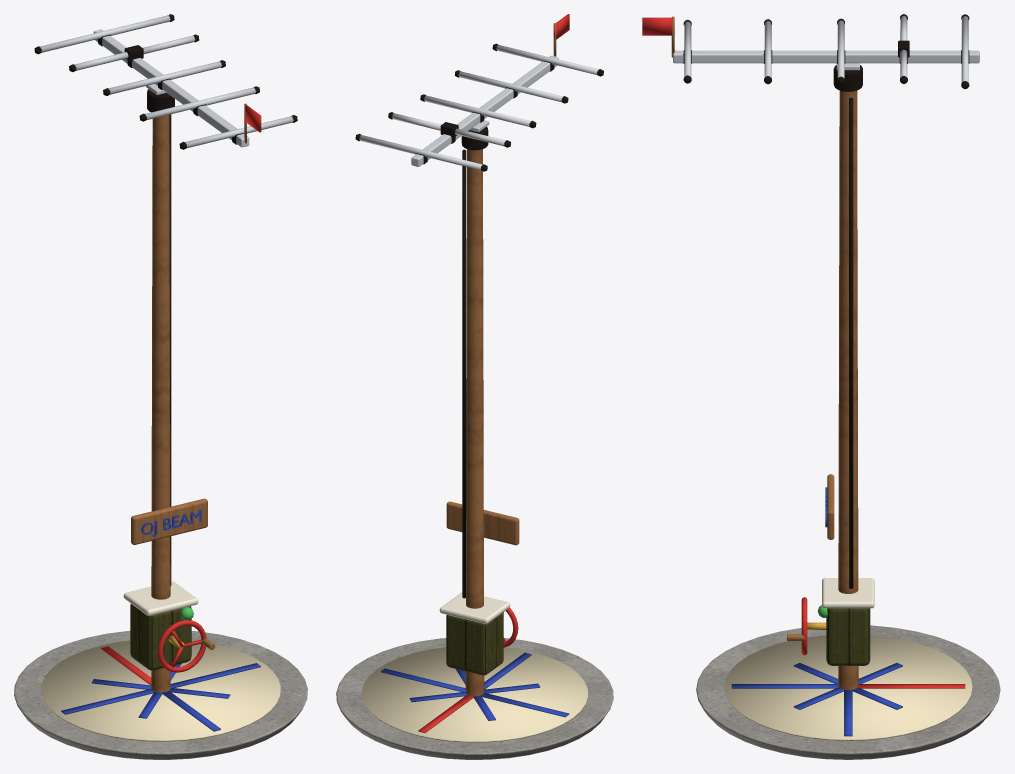
File: beam.glb
The picture shows the model from 3 angles, left to right: view 1: azimuth 30°, elevation 25°; view 2: azimuth 150°, elevation 25°; view 3: azimuth 270°, elevation 25°; orthographic projection. The views are drawn at different scales.
Visible parts, largest first — view 1: bm_rose, bm_pad, bm_pole, bm_gearbox, bm_sign, bm_boom, bm_gearlid, bm_coax, bm_el, bm_wheel, bm_el.003, bm_el.004 (+4 smaller); view 2: bm_rose, bm_pad, bm_pole, bm_gearbox, bm_coax, bm_boom, bm_sign, bm_gearlid, bm_el, bm_el.003, bm_el.004, bm_el.005 (+1 smaller); view 3: bm_rose, bm_pad, bm_pole, bm_boom, bm_gearbox, bm_coax, bm_gearlid.
Boxes of the visible parts, <box> form: bm_rose: <box>41,640,280,741</box>; bm_pad: <box>14,630,307,759</box>; bm_pole: <box>151,115,170,692</box>; bm_gearbox: <box>130,604,191,670</box>; bm_sign: <box>131,498,207,544</box>; bm_boom: <box>93,29,249,147</box>; bm_gearlid: <box>123,581,198,615</box>; bm_coax: <box>169,114,171,585</box>; bm_el: <box>40,15,170,52</box>; bm_wheel: <box>157,620,206,672</box>; bm_el.003: <box>108,61,221,94</box>; bm_el.004: <box>145,87,256,119</box>; bm_rose: <box>362,647,587,742</box>; bm_pad: <box>336,638,613,759</box>; bm_pole: <box>465,149,484,696</box>; bm_gearbox: <box>446,612,503,675</box>; bm_coax: <box>462,149,466,598</box>; bm_boom: <box>411,55,558,166</box>; bm_sign: <box>446,501,519,545</box>; bm_gearlid: <box>439,592,510,624</box>; bm_el: <box>359,135,482,170</box>; bm_el.003: <box>424,95,530,126</box>; bm_el.004: <box>458,71,563,101</box>; bm_el.005: <box>496,45,598,74</box>; bm_rose: <box>724,635,972,740</box>; bm_pad: <box>696,625,1000,759</box>; bm_pole: <box>838,90,858,689</box>; bm_boom: <box>673,50,979,63</box>; bm_gearbox: <box>826,608,870,665</box>; bm_coax: <box>849,97,853,588</box>; bm_gearlid: <box>822,578,874,608</box>.
Size of the model in its own units: 2.08 by 5.15 by 2.45.
Materials: 11 (3 with a texture image).
